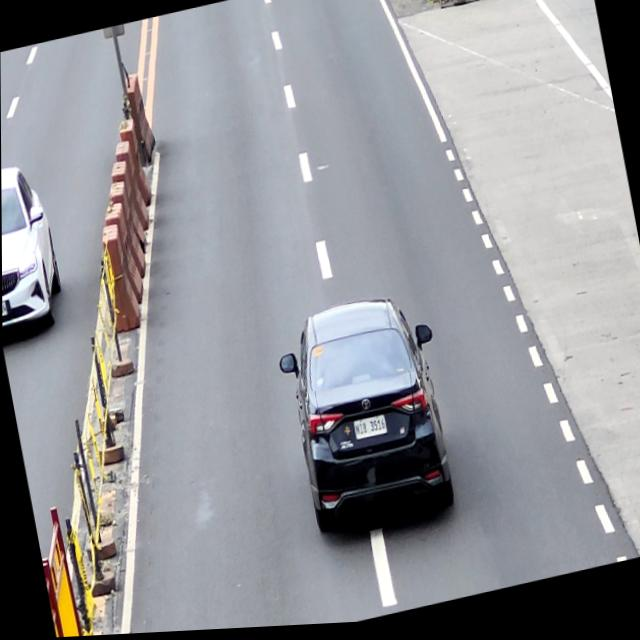Car: (271, 290, 463, 546)
License-Plate: (352, 416, 387, 444)
